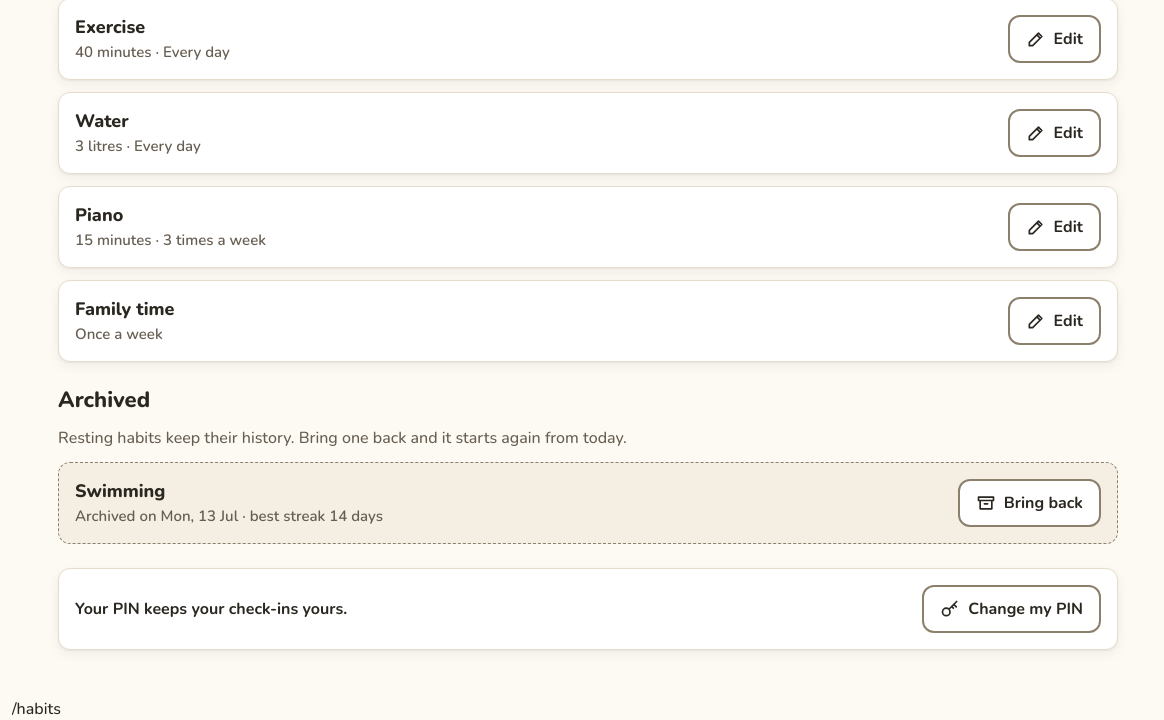
Test: REQ-009 edit, archive and bring back from My habits › Bring back that fails for another reason asks to try again
The width and height of the screenshot is (1164, 720).
(page scrolled)
Click the button named "Bring back Swimming": (1029, 503) top-left (958, 479), bottom-right (1101, 527)
(page scrolled)
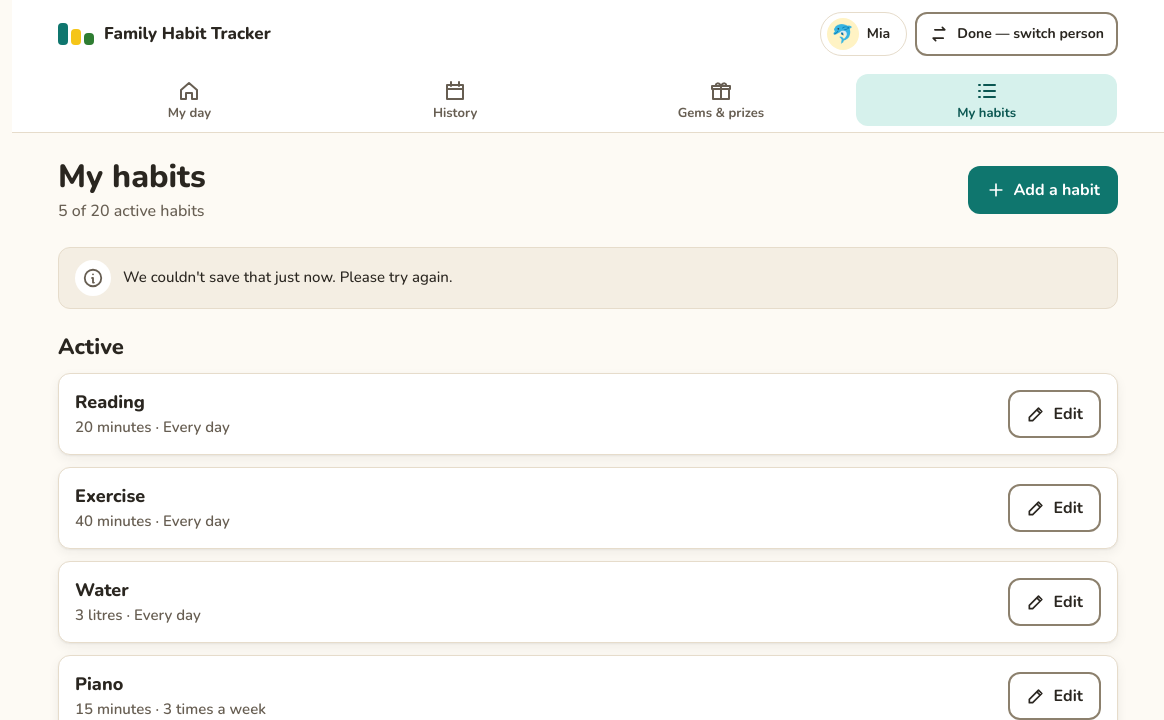
Now the text "We couldn't save that just now. Please try again." is shown, box top-left (123, 267), bottom-right (452, 287)
